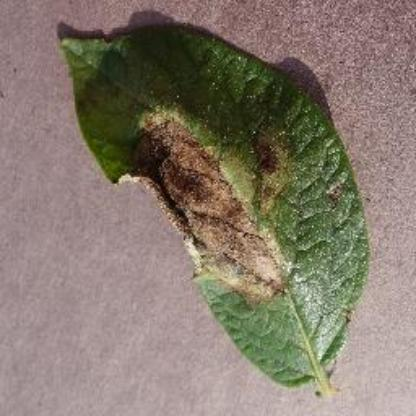Late-Blight: (55, 26, 375, 398)
